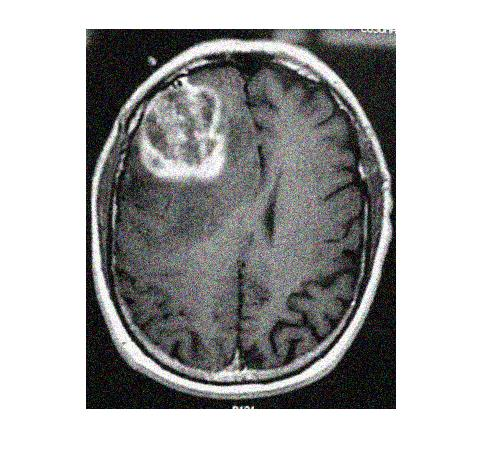Brain_Cancer: (141, 90, 229, 180)
